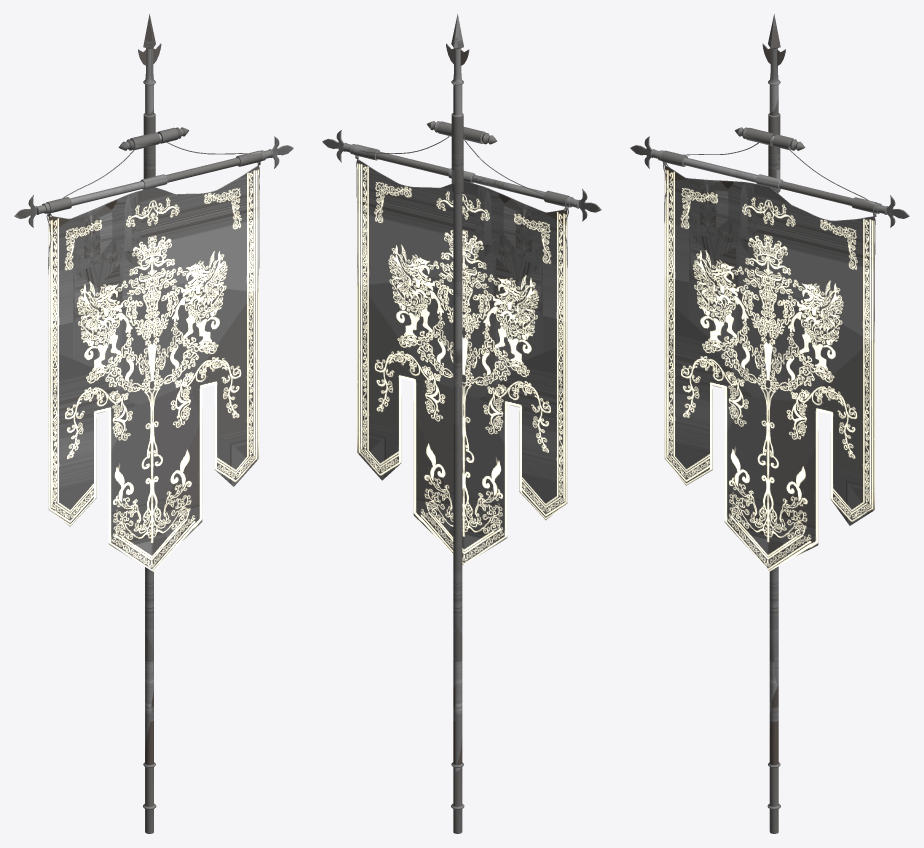
The picture shows the model from 3 angles, left to right: view 1: azimuth 30°, elevation 25°; view 2: azimuth 150°, elevation 25°; view 3: azimuth 330°, elevation 25°; orthographic projection.
Visible parts, largest first — view 1: lothricBannerLowRez; view 2: lothricBannerLowRez; view 3: lothricBannerLowRez.
Part boxes in pixels (<box>): lothricBannerLowRez: <box>14,14,293,833</box>; lothricBannerLowRez: <box>322,14,601,833</box>; lothricBannerLowRez: <box>630,14,909,833</box>.
Bounding box in the file's own units: 0.7155 × 2 × 0.0494.
